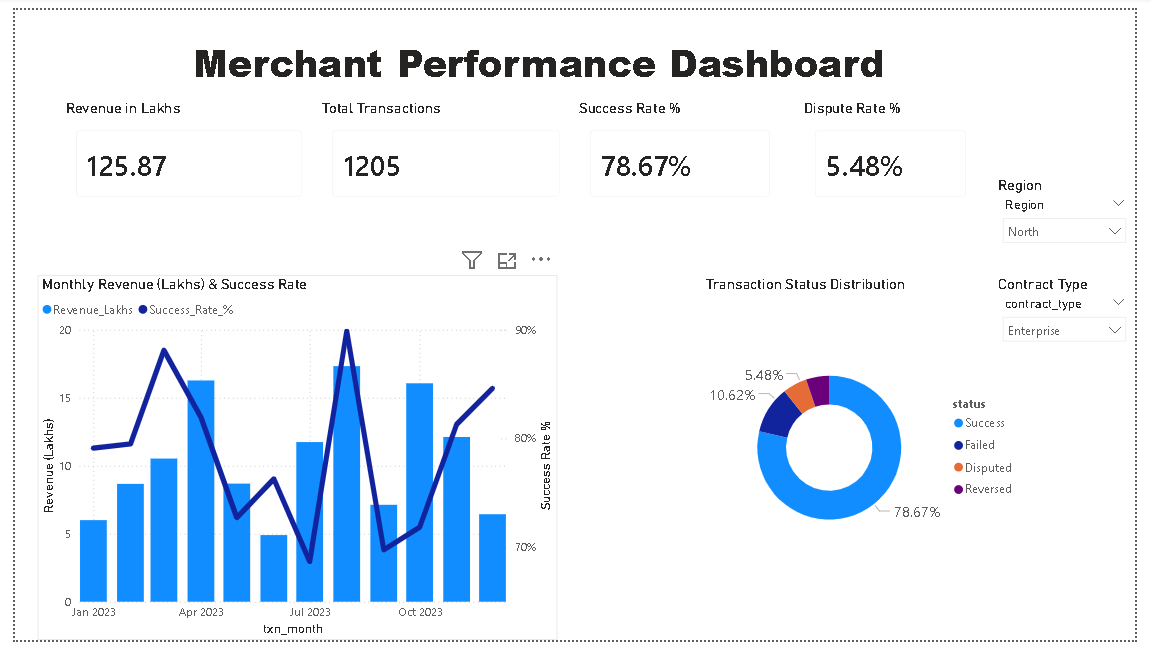

The page's visual inventory and layout, read from the dashboard file:
{"tool":"powerbi","page":{"name":"Page 1","canvas":[1280,720],"ordinal":0},"visuals":[{"type":"cardVisual","title":"Revenue in Lakhs","fields":{"Data":["Fact_Transactions.Revenue_Lakhs"]},"box":[52.9,101.4,292.9,130],"z":0},{"type":"cardVisual","title":"Total Transactions","fields":{"Data":["Fact_Transactions.Total_Txns_Display"]},"box":[345.7,101.4,294.3,130],"z":1000},{"type":"cardVisual","title":"Success Rate %","fields":{"Data":["Fact_Transactions.Success_Rate_%"]},"box":[640,101.4,240,130],"z":2000},{"type":"cardVisual","title":"Dispute Rate %","fields":{"Data":["Fact_Transactions.Dispute_Rate_%"]},"box":[897.1,101.4,207.1,130],"z":3000},{"type":"lineClusteredColumnComboChart","title":"Monthly Revenue (Lakhs) & Success Rate","fields":{"Category":["Fact_Transactions.txn_month"],"Y":["Fact_Transactions.Revenue_Lakhs"],"Y2":["Fact_Transactions.Success_Rate_%"]},"box":[25.7,302.9,594.3,417.1],"z":4000},{"type":"donutChart","title":"Transaction Status Distribution","fields":{"Category":["Fact_Transactions.status"],"Y":["Fact_Transactions.Total_Txns"]},"box":[784.3,302.9,370,375.7],"z":5000},{"type":"slicer","title":"Region","fields":{"Values":["Fact_Transactions.region"]},"box":[1118.6,190,161.4,112.9],"z":6000},{"type":"slicer","title":"Contract Type","fields":{"Values":["Merchant_Scorecard.contract_type"]},"box":[1118.6,302.9,161.4,111.4],"z":7000},{"type":"textbox","box":[198.6,24.3,801.4,77.1],"z":8000}]}

Visuals, with their boxes in screenshot pixels (x1, y1, x2, y2), scaled from the page's 1280x720 canvas onto the 1151x653 screenshot:
"Revenue in Lakhs" cardVisual: (48,92,311,210)
"Total Transactions" cardVisual: (311,92,576,210)
"Success Rate %" cardVisual: (576,92,791,210)
"Dispute Rate %" cardVisual: (807,92,993,210)
"Monthly Revenue (Lakhs) & Success Rate" lineClusteredColumnComboChart: (23,275,558,652)
"Transaction Status Distribution" donutChart: (705,275,1038,615)
"Region" slicer: (1006,172,1150,275)
"Contract Type" slicer: (1006,275,1150,376)
textbox: (179,22,899,92)
